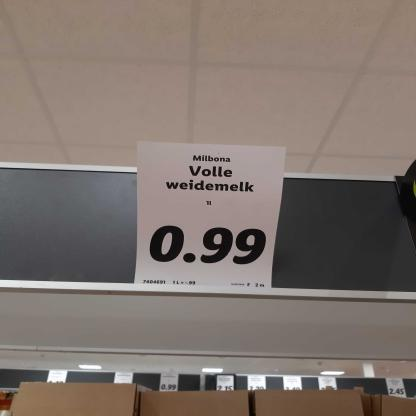prtg: (135, 143, 288, 289)
